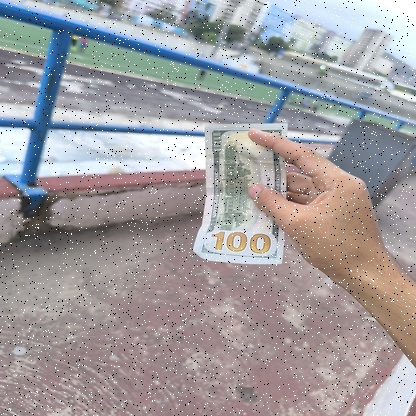one_hundred-back: (189, 118, 294, 265)
